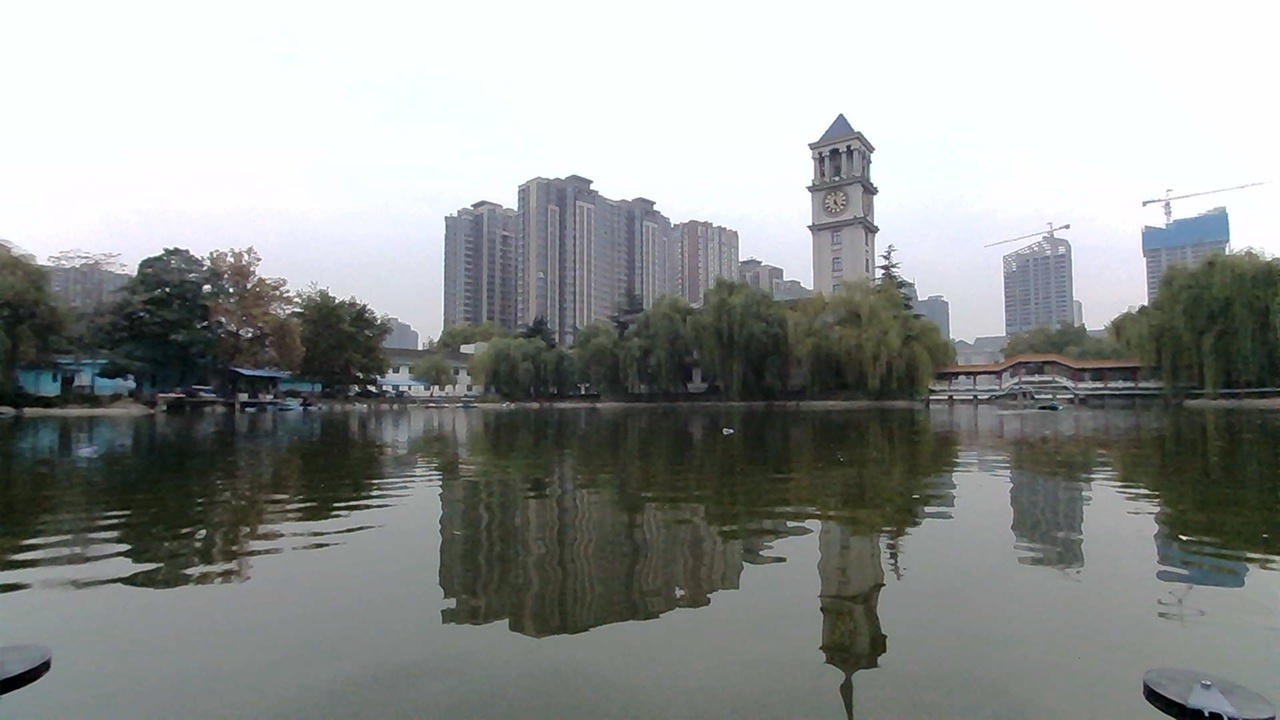bottle: (73, 429, 122, 466), (706, 412, 749, 441)
